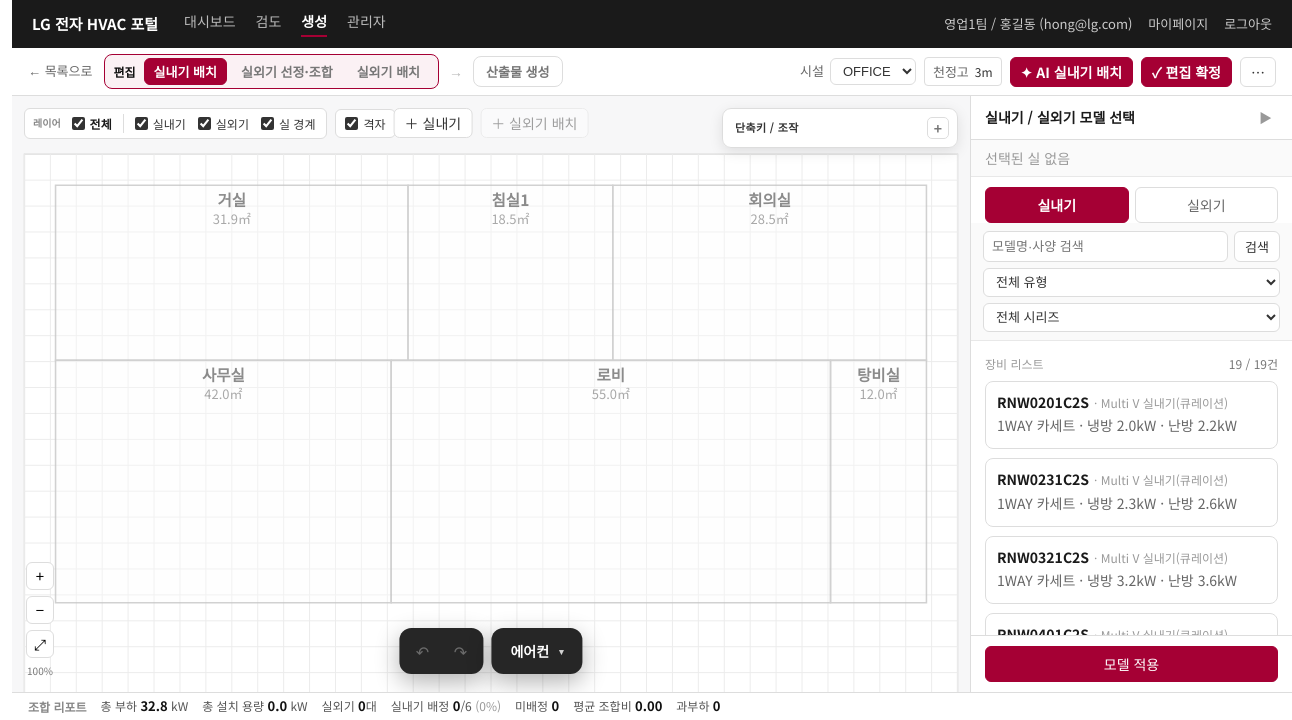
App — 되돌리기/다시하기 › AI 실내기 배치를 되돌리면 심볼과 대수가 함께 사라진다
Click the button "✦ AI 실내기 배치": [1071, 72] box [1010,56,1133,86]
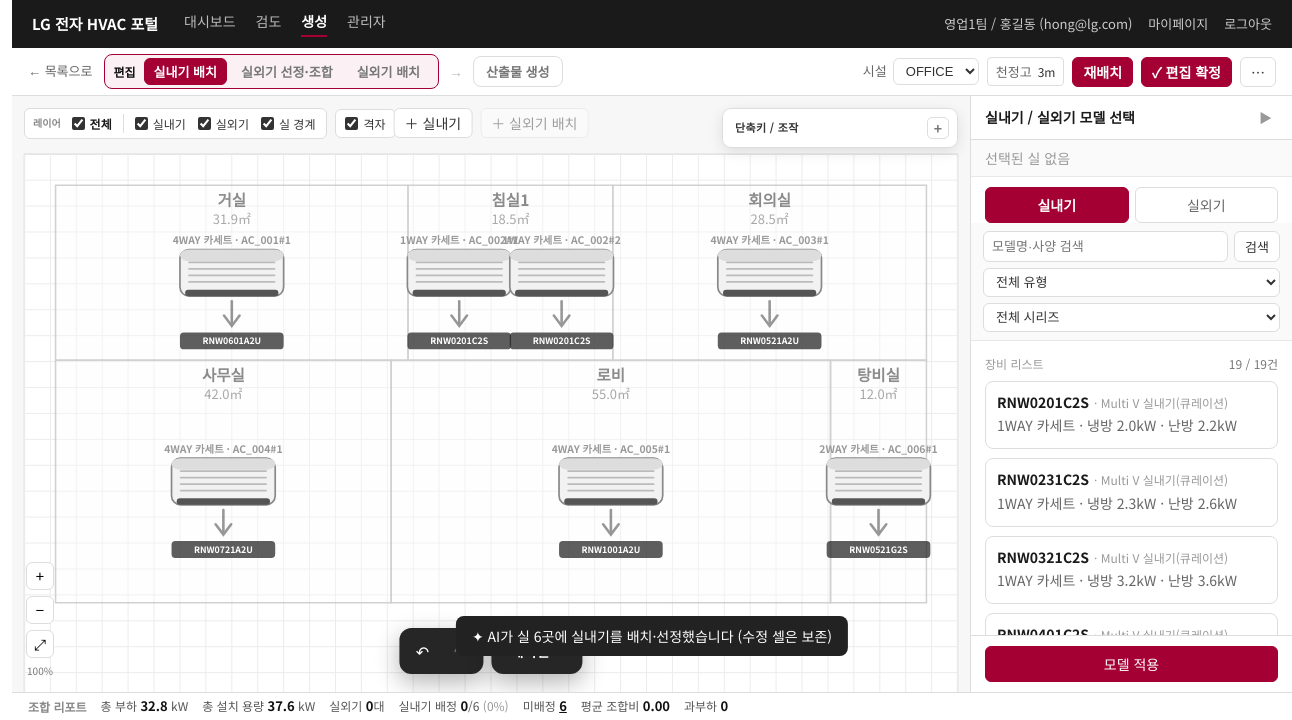
Now the message with class "statusbar" shows "미배정 6", box [12,692,1291,719]
Click the button named "되돌리기": [422, 651] box [404,633,440,669]
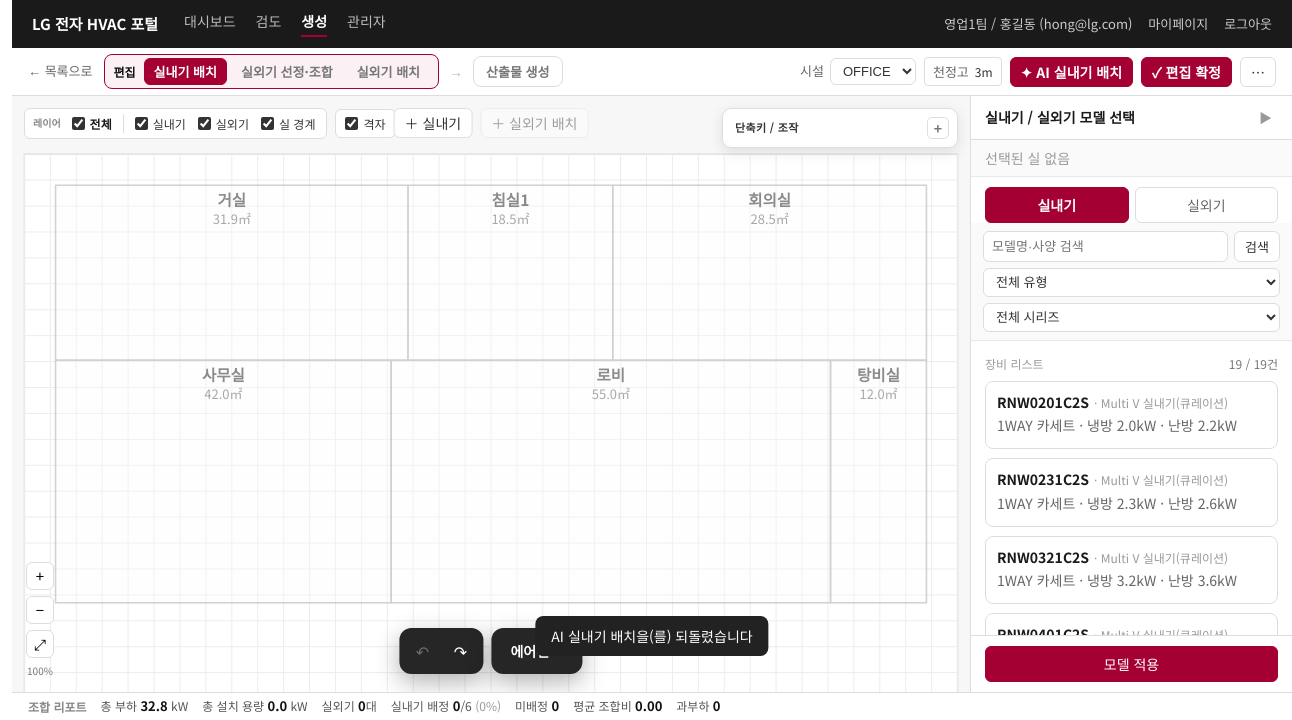
Now the message with class "statusbar" shows "미배정 0", box [12,692,1291,719]
